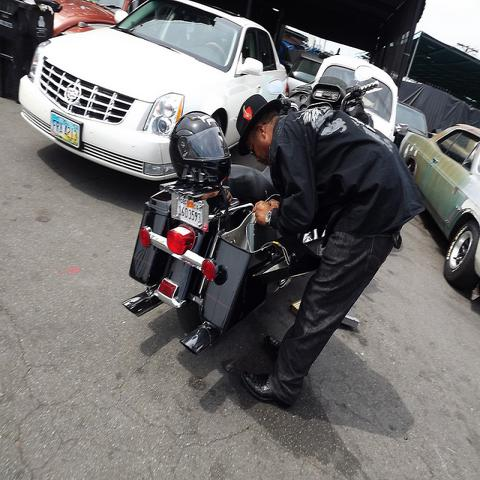car: (20, 0, 290, 182), (399, 124, 479, 277), (312, 51, 397, 143), (49, 1, 116, 33), (286, 50, 322, 94), (396, 101, 428, 150)
motorcycle: (114, 72, 385, 356)
